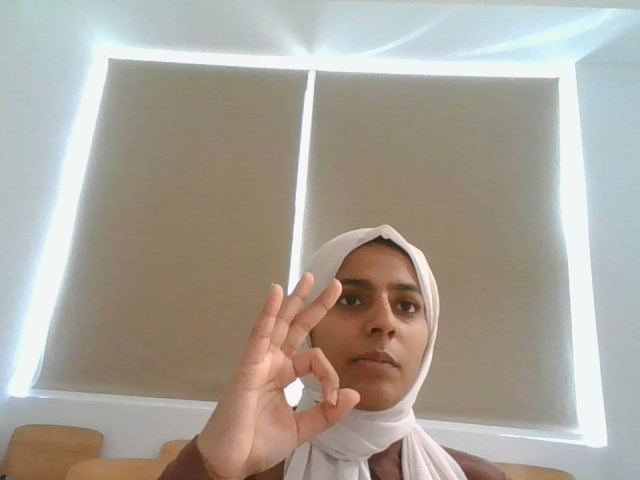okay: (210, 266, 360, 463)
